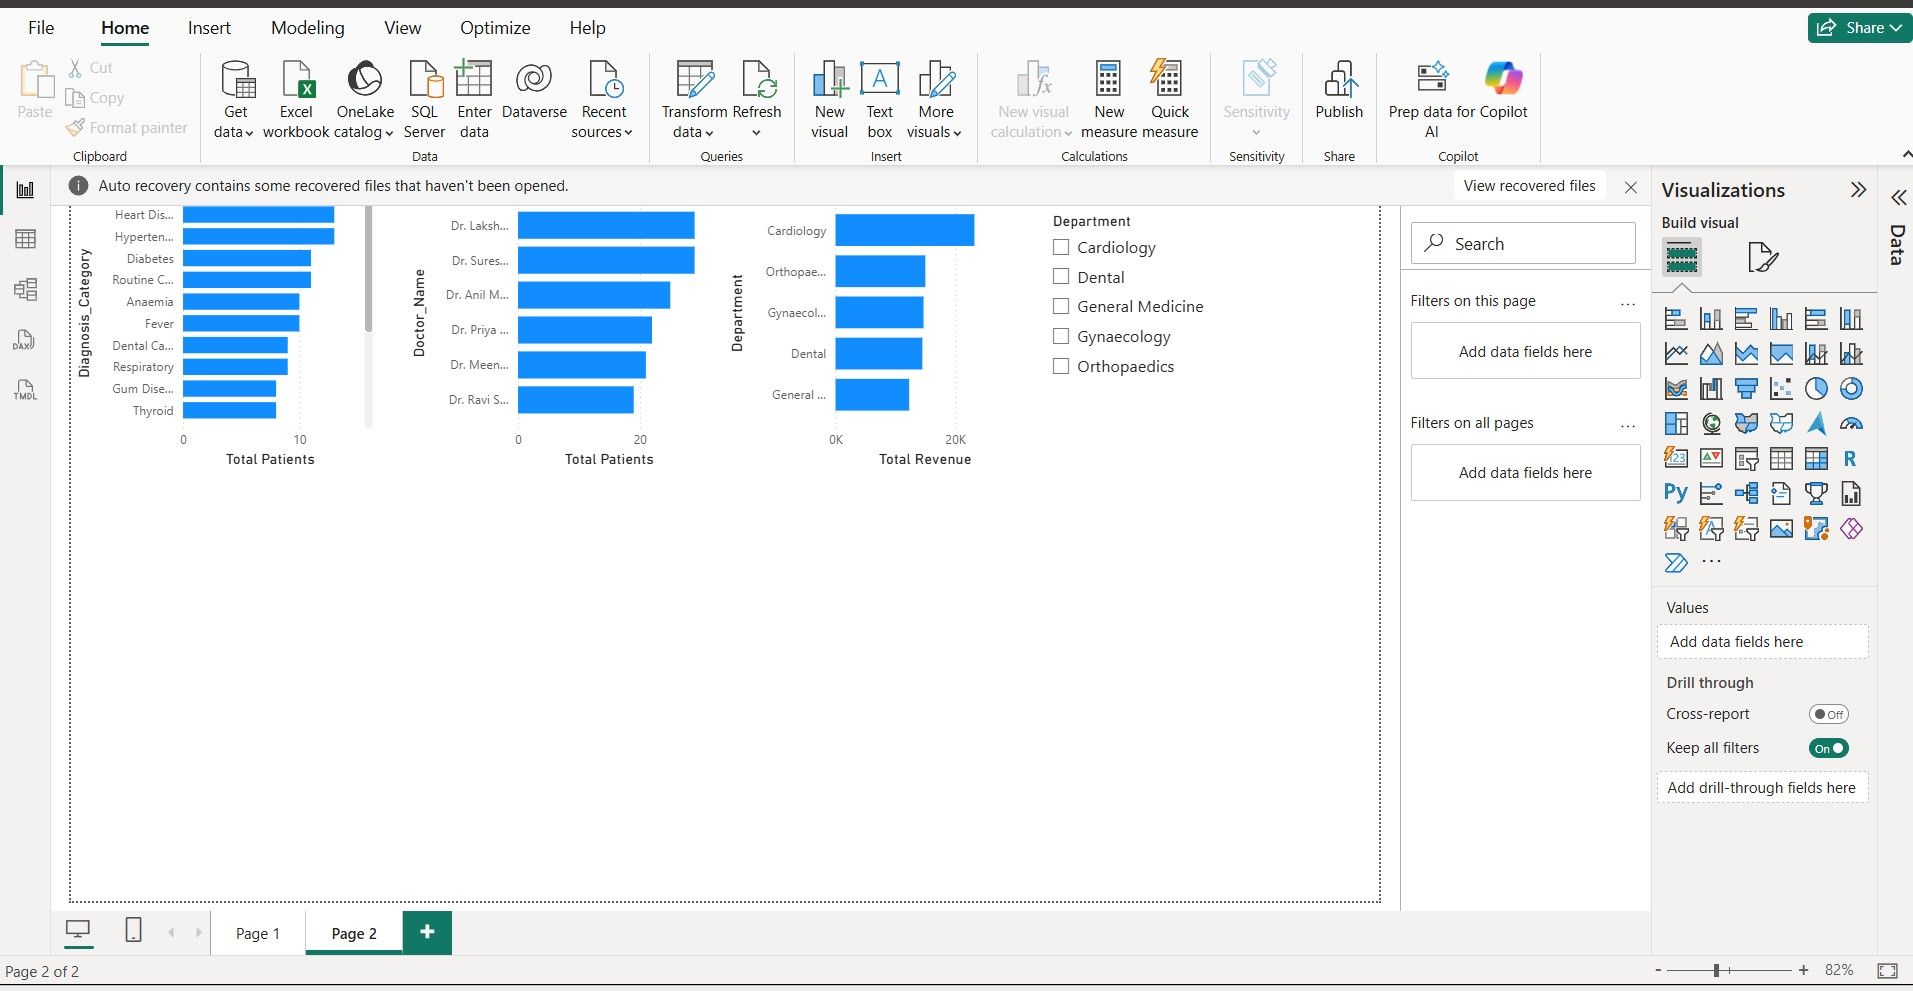

Layout of this report page (visuals, bound fields, positions):
{"tool":"powerbi","page":{"name":"Page 2","canvas":[1280,720],"ordinal":1},"visuals":[{"type":"clusteredBarChart","fields":{"Category":["hospital_opd_data.Diagnosis_Category"],"Y":["hospital_opd_data.Total Patients"]},"box":[0,0,300.5,300.5],"z":0},{"type":"clusteredBarChart","fields":{"Y":["hospital_opd_data.Total Patients"],"Category":["hospital_opd_data.Doctor_Name"]},"box":[327.3,0,300.5,300.5],"z":1000},{"type":"clusteredBarChart","fields":{"Category":["hospital_opd_data.Department"],"Y":["hospital_opd_data.Total Revenue"]},"box":[637.8,0,300.5,300.5],"z":2000},{"type":"slicer","fields":{"Values":["hospital_opd_data.Department"]},"box":[948.2,41.2,300.5,300.5],"z":3000}]}

Visuals, with their boxes on the page's 1280x720 design canvas (x1, y1, x2, y2). These are canvas units, not pixel positions in the 1913x991 screenshot, which may show the page scaled, cropped or inside an application window:
clusteredBarChart - hospital_opd_data.Diagnosis_Category x hospital_opd_data.Total Patients: 0, 0, 300, 300
clusteredBarChart - hospital_opd_data.Total Patients x hospital_opd_data.Doctor_Name: 327, 0, 628, 300
clusteredBarChart - hospital_opd_data.Department x hospital_opd_data.Total Revenue: 638, 0, 938, 300
slicer - hospital_opd_data.Department: 948, 41, 1249, 342
